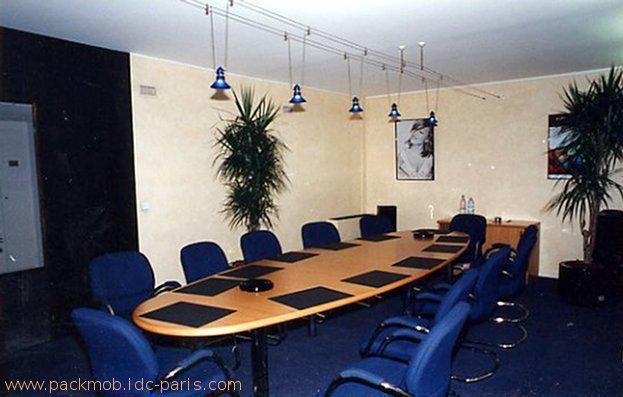Matera: (555, 78, 610, 308), (214, 86, 284, 237)
